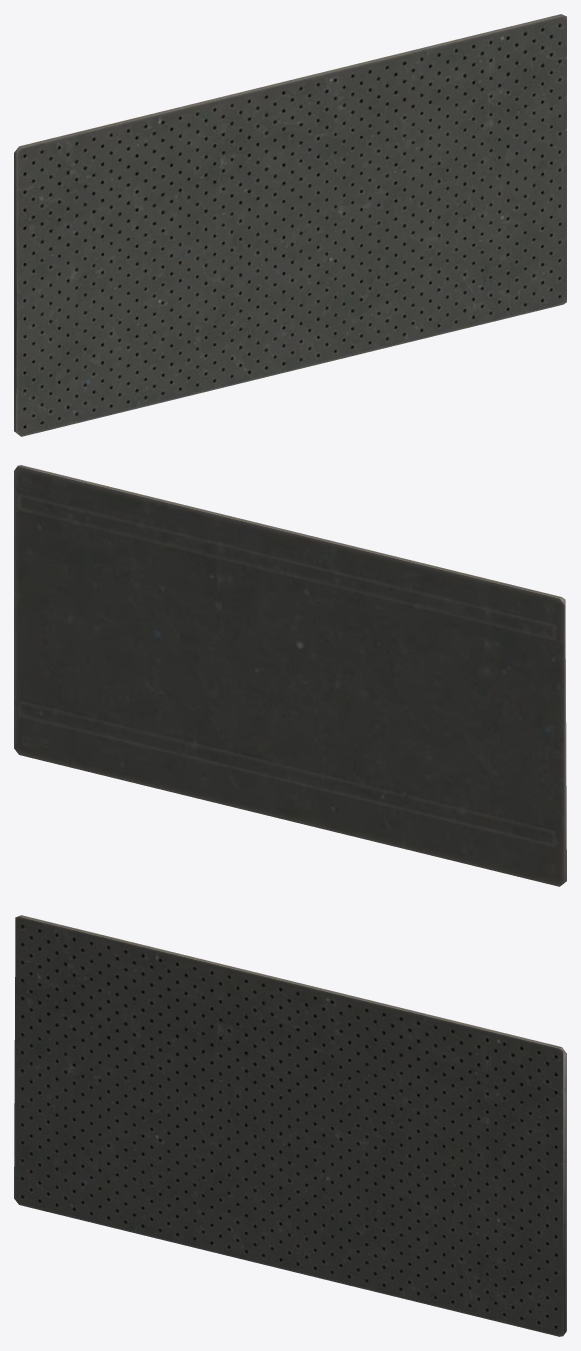
Rendered from gunracklarge_b.glb.
3 views of the same model, one above another, from view 1: azimuth 30°, elevation 25°; view 2: azimuth 150°, elevation 25°; view 3: azimuth 330°, elevation 25° (orthographic).
Visible parts, largest first — view 1: GunRackLarge_B; view 2: GunRackLarge_B; view 3: GunRackLarge_B.
Boxes of the visible parts, bbox=[...] form: GunRackLarge_B: bbox=[14, 14, 566, 436]; GunRackLarge_B: bbox=[14, 465, 566, 886]; GunRackLarge_B: bbox=[14, 915, 566, 1336].
Size of the model in its own units: 1.5 by 0.75 by 0.0108.
1 material, 1 textured.
